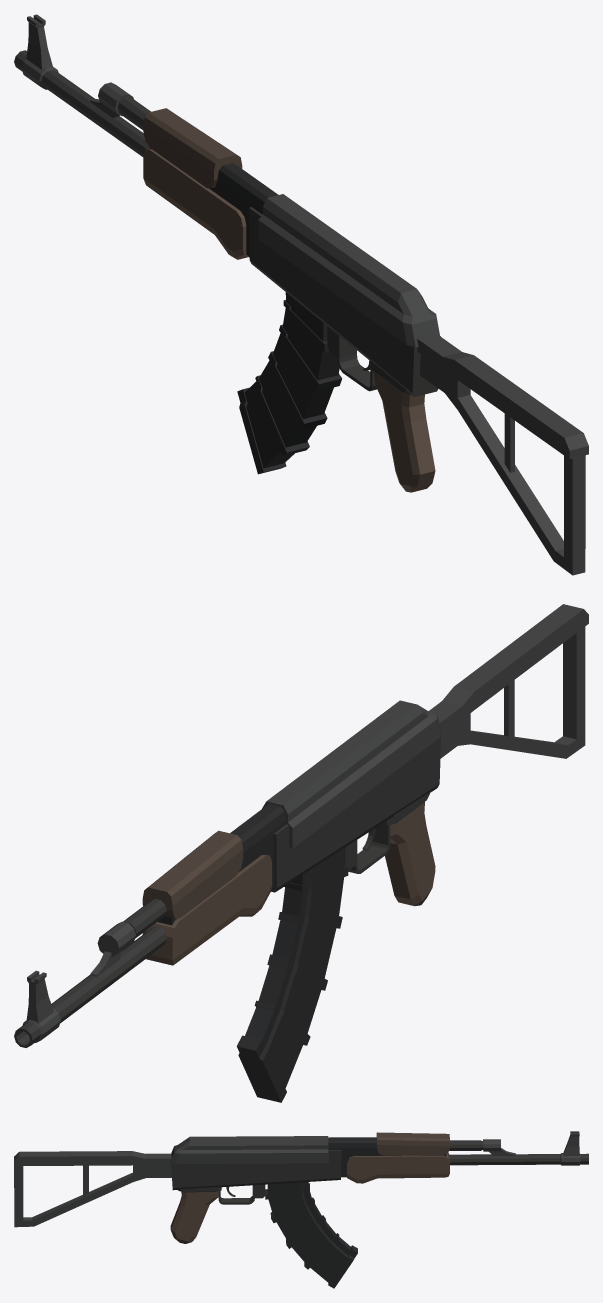
Rendered from arme1.glb.
3 renders of one model, top to bottom at view 1: azimuth 30°, elevation 25°; view 2: azimuth 150°, elevation 25°; view 3: azimuth 270°, elevation 25°, orthographic. The views are drawn at different scales.
Parts seen in each view (by area): view 1: AssaultRifle_4; view 2: AssaultRifle_4; view 3: AssaultRifle_4.
Boxes of the visible parts, x1,y1,x2,y2 form: AssaultRifle_4: (14, 14, 588, 575); AssaultRifle_4: (14, 604, 588, 1102); AssaultRifle_4: (14, 1131, 588, 1288).
Bounding box in the file's own units: 0.1018 × 0.7496 × 2.57.
